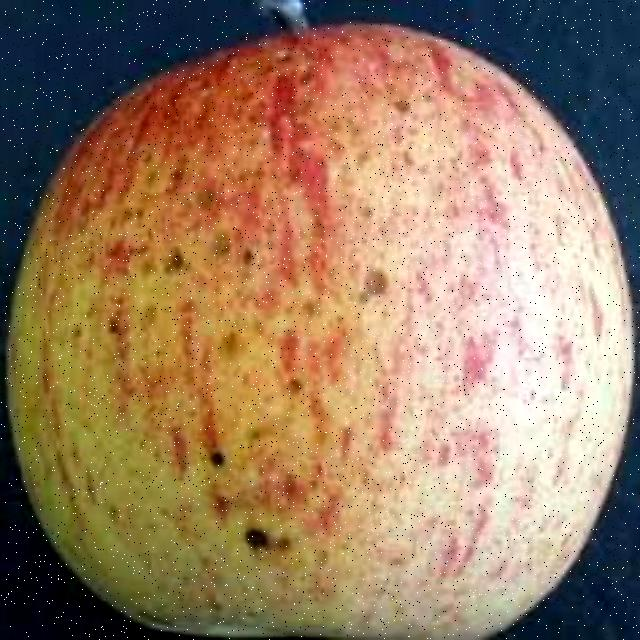BLOTCH: (9, 4, 622, 624)
